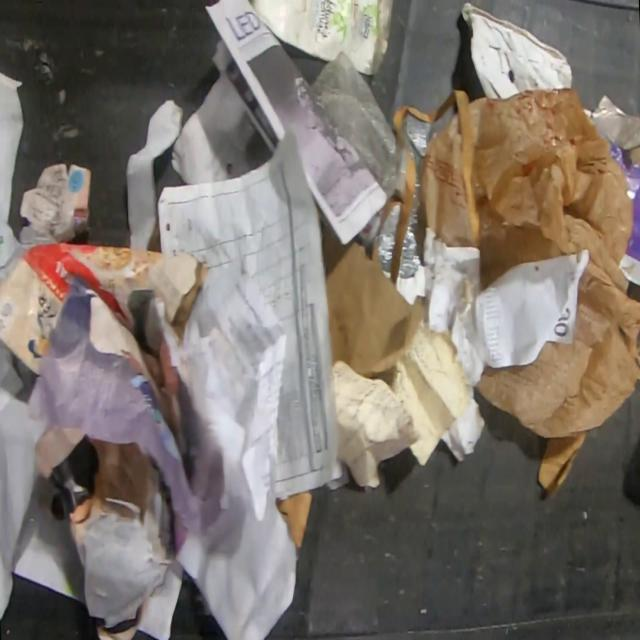cardboard: (0, 162, 211, 460), (251, 0, 396, 77), (274, 489, 316, 551)
soft_plastic: (420, 86, 640, 440), (308, 50, 408, 201)
